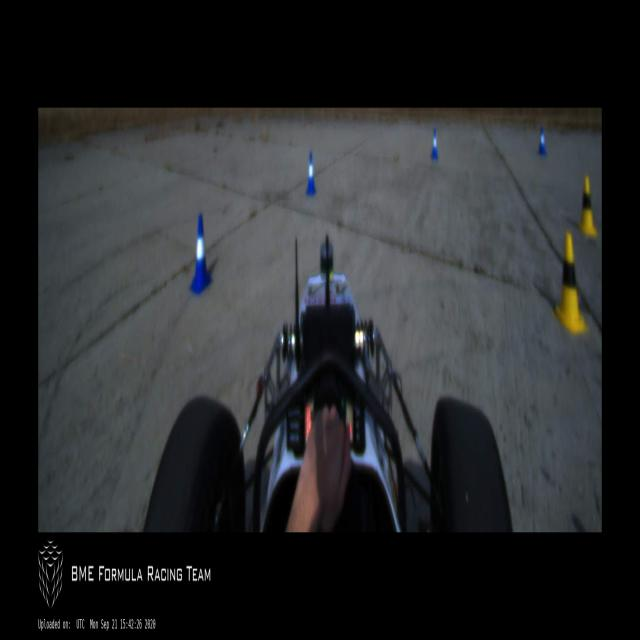blue_cone: (190, 214, 212, 294), (306, 152, 316, 195), (431, 128, 438, 160), (539, 127, 546, 155)
yellow_cone: (552, 232, 587, 332), (578, 175, 597, 236)
